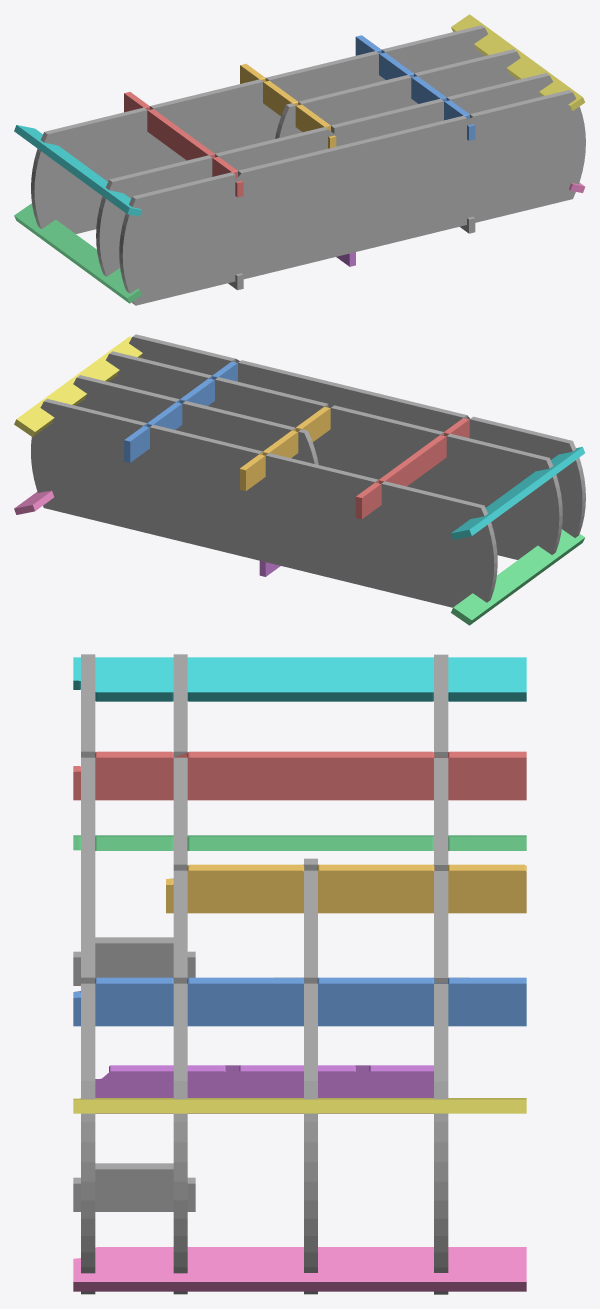
File: NODO_RACK_CONTROL_VISUAL_GRIS_PATAS.glb
3 views of the same model, one above another, from view 1: azimuth 30°, elevation 25°; view 2: azimuth 150°, elevation 25°; view 3: azimuth 270°, elevation 25° (orthographic). The views are drawn at different scales.
Parts seen in each view (by area): view 1: A, C, B, D, F_left_front, F_rear, G_right_rear, G_rear, F_left_rear, H_rear; view 2: C, B, A, D, F_left_front, F_rear, G_right_rear, G_rear, F_left_rear, H_rear, G_right_front; view 3: F_rear, G_rear, G_right_front, F_left_rear, H_rear, H_front, A, C, B, G_right_rear, F_left_front, D (+2 smaller).
Part boxes in pixels (bbox=[...]): A: bbox=[119, 90, 585, 305]; C: bbox=[31, 25, 487, 233]; B: bbox=[96, 73, 552, 276]; D: bbox=[275, 49, 520, 138]; F_left_front: bbox=[14, 203, 141, 303]; F_rear: bbox=[124, 92, 243, 197]; G_right_rear: bbox=[451, 14, 585, 110]; G_rear: bbox=[355, 35, 475, 140]; F_left_rear: bbox=[14, 125, 141, 216]; H_rear: bbox=[240, 63, 336, 148]; C: bbox=[31, 399, 497, 607]; B: bbox=[106, 351, 562, 559]; A: bbox=[129, 334, 585, 537]; D: bbox=[73, 375, 318, 464]; F_left_front: bbox=[451, 529, 584, 625]; F_rear: bbox=[355, 418, 469, 519]; G_right_rear: bbox=[14, 336, 142, 437]; G_rear: bbox=[124, 361, 237, 462]; F_left_rear: bbox=[451, 447, 584, 539]; H_rear: bbox=[240, 406, 330, 490]; G_right_front: bbox=[14, 490, 54, 514]; F_rear: bbox=[73, 751, 526, 800]; G_rear: bbox=[73, 977, 526, 1026]; G_right_front: bbox=[73, 1247, 526, 1291]; F_left_rear: bbox=[73, 657, 526, 701]; H_rear: bbox=[166, 864, 526, 913]; H_front: bbox=[95, 1065, 433, 1113]; A: bbox=[81, 654, 95, 1294]; C: bbox=[434, 654, 448, 1294]; B: bbox=[173, 654, 187, 1294]; G_right_rear: bbox=[73, 1098, 526, 1113]; F_left_front: bbox=[73, 835, 526, 850]; D: bbox=[304, 858, 317, 1294].
Bounding box in the file's own units: 1364 × 342 × 578.
